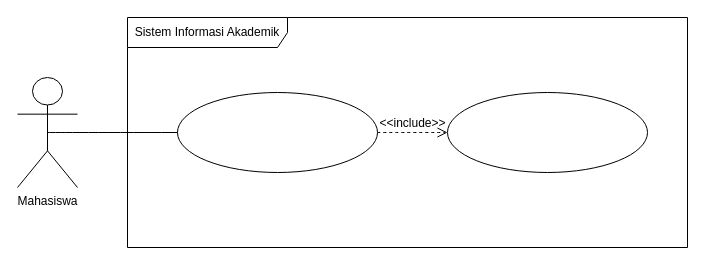
Image size: 705x265. Some labels were removed from this diagram. Each missing label, with the centre of its shape:
"SIA-UC03: Ajukan KRS" belongs at [277,132].
"SIA-UC04: Validasi KRS" belongs at [547,132].
